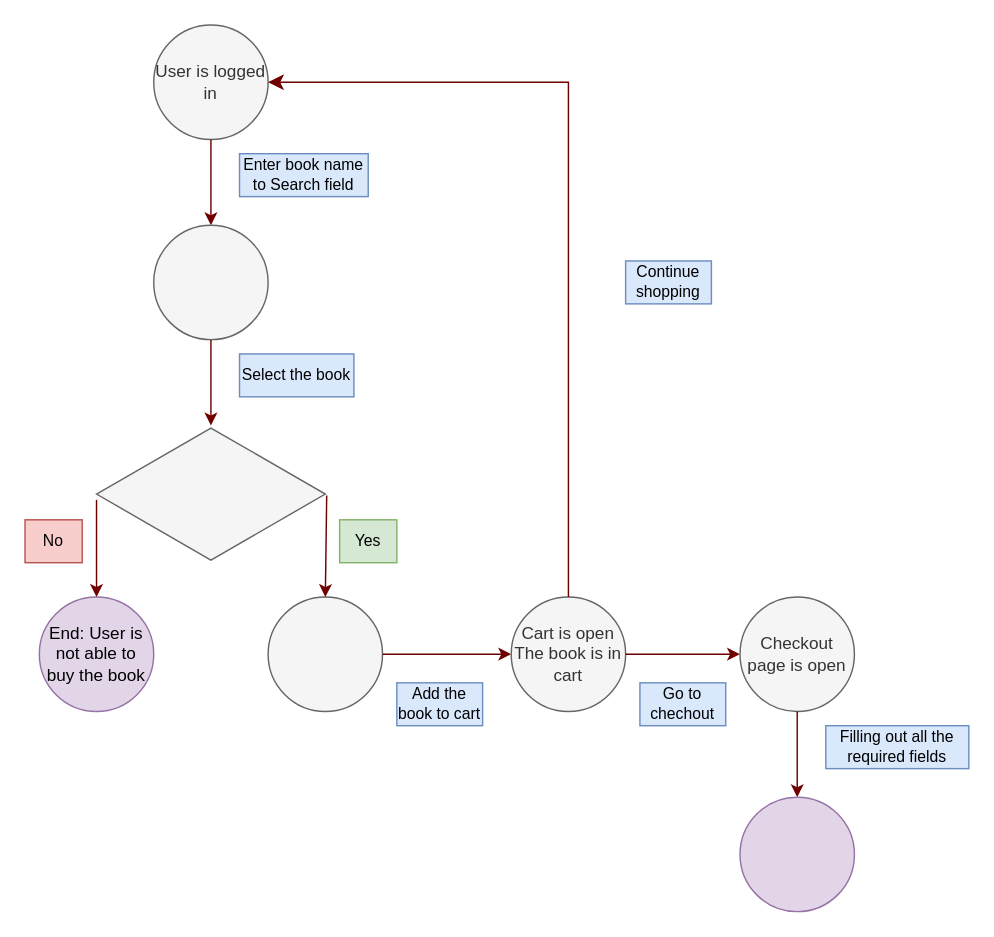
The diagram is 994 pixels wide and 937 high, and some of its shapes have lost their labels. The box of each missing label's shape, as (x1, y1, x2, y2) in pixels:
Book is found: (152, 224, 268, 340)
End: Book is successfully ordered: (739, 796, 854, 912)
Is book available ?: (95, 424, 325, 563)
The book is available for purchase: (267, 596, 383, 711)
